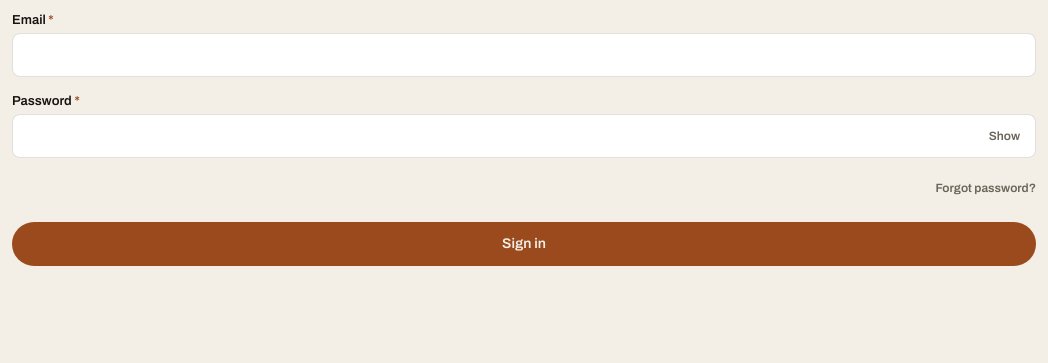
Test case: LoginForm › shows a generic invalid-credentials state on 401
Type "atharva@forgebuilds.in" into the field labelled "Email *" at (524, 55), box [12,33,1036,77]
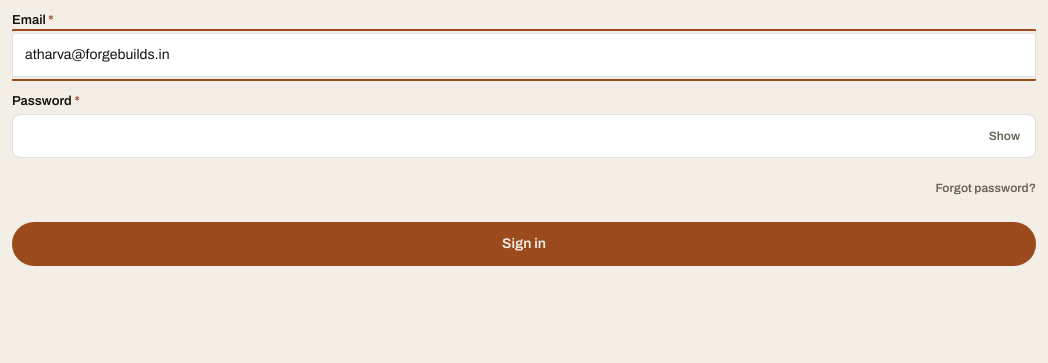
Type "wrong" into the password field labelled "Password *" at (524, 136), box [12,114,1036,158]
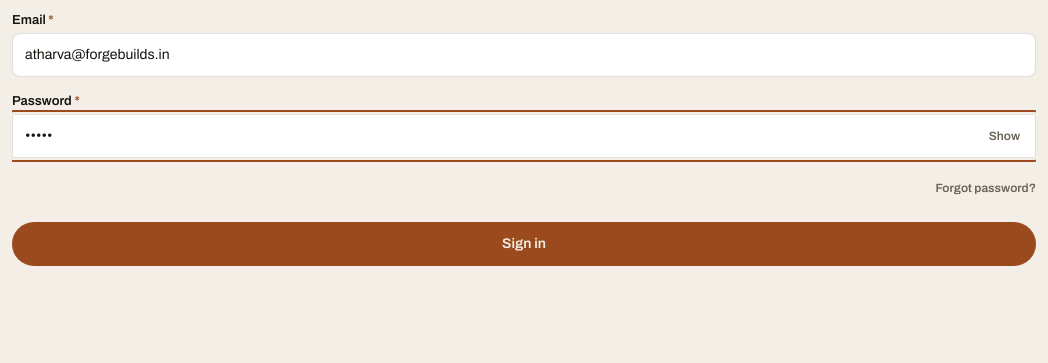
Click the button "Sign in" at (524, 244), box [12,222,1036,266]
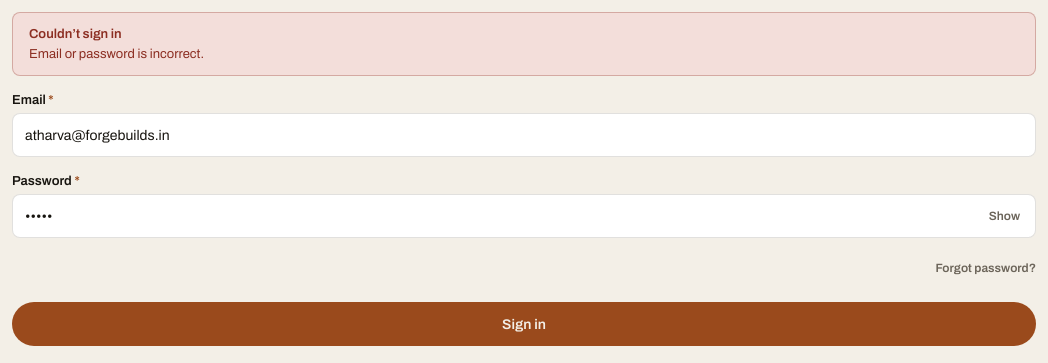
Check: the text "Email or password is incorrect." is shown, box [29,46,204,60]
